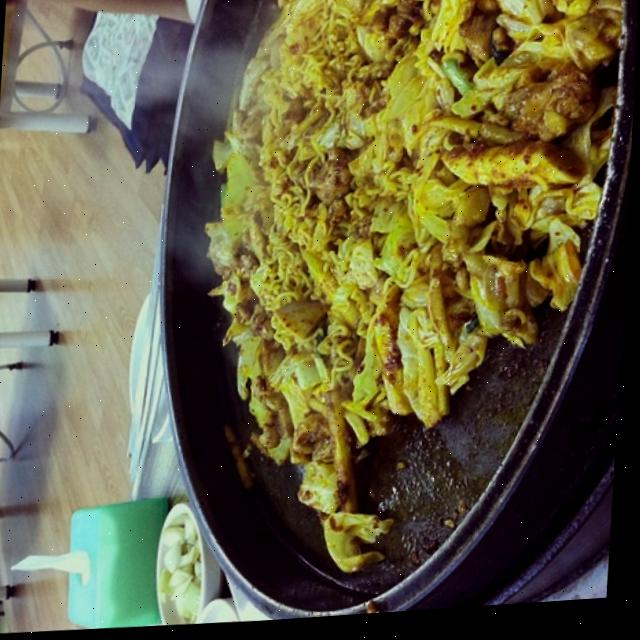鸡肉料理 含炸鸡: (148, 0, 639, 524)
